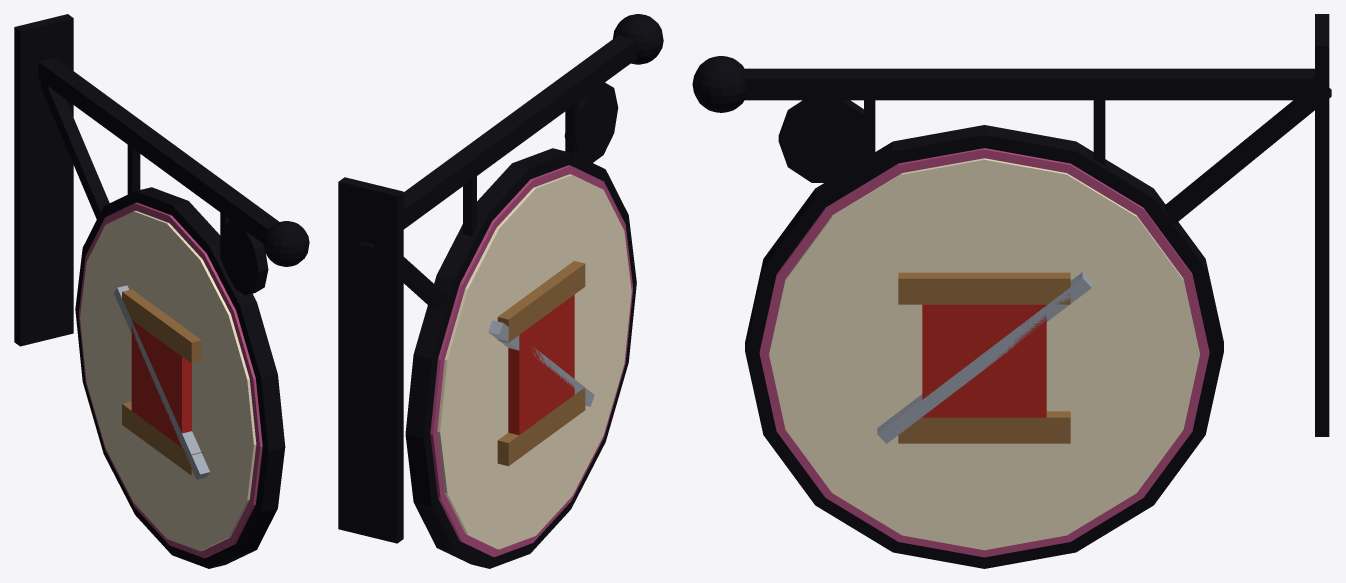
File: shop_tailor_sign.gltf
The picture shows the model from 3 angles, left to right: view 1: azimuth 30°, elevation 25°; view 2: azimuth 150°, elevation 25°; view 3: azimuth 270°, elevation 25°; orthographic projection. The views are drawn at different scales.
Parts seen in each view (by area): view 1: ShopTailorSignShopIron, ShopTailorSignShopCream, ShopTailorSignShopRed, ShopTailorSignShopCloth, ShopTailorSignShopWoodLight, ShopTailorSignShopSteel; view 2: ShopTailorSignShopIron, ShopTailorSignShopCream, ShopTailorSignShopRed, ShopTailorSignShopCloth, ShopTailorSignShopWoodLight, ShopTailorSignShopSteel; view 3: ShopTailorSignShopCream, ShopTailorSignShopIron, ShopTailorSignShopCloth, ShopTailorSignShopRed, ShopTailorSignShopWoodLight, ShopTailorSignShopSteel.
Part boxes in pixels (left/top/right/bottom): ShopTailorSignShopIron: left=14, top=14, right=309, bottom=568; ShopTailorSignShopCream: left=80, top=211, right=256, bottom=551; ShopTailorSignShopRed: left=131, top=320, right=191, bottom=447; ShopTailorSignShopCloth: left=78, top=202, right=262, bottom=558; ShopTailorSignShopWoodLight: left=122, top=289, right=201, bottom=475; ShopTailorSignShopSteel: left=113, top=285, right=209, bottom=479; ShopTailorSignShopIron: left=338, top=14, right=663, bottom=568; ShopTailorSignShopCream: left=437, top=174, right=631, bottom=549; ShopTailorSignShopRed: left=508, top=295, right=574, bottom=435; ShopTailorSignShopCloth: left=430, top=165, right=633, bottom=556; ShopTailorSignShopWoodLight: left=497, top=261, right=585, bottom=466; ShopTailorSignShopSteel: left=488, top=320, right=594, bottom=406; ShopTailorSignShopCream: left=769, top=158, right=1199, bottom=550; ShopTailorSignShopIron: left=692, top=14, right=1331, bottom=568; ShopTailorSignShopCloth: left=759, top=148, right=1209, bottom=557; ShopTailorSignShopRed: left=922, top=304, right=1046, bottom=417; ShopTailorSignShopWoodLight: left=898, top=272, right=1070, bottom=443; ShopTailorSignShopSteel: left=877, top=272, right=1091, bottom=443.
Bounding box in the file's own units: 0.16 × 1.23 × 1.33.
